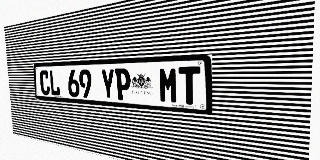6: (67, 69, 80, 97)
9: (79, 69, 92, 98)
C: (39, 70, 50, 95)
L: (49, 70, 60, 96)
M: (158, 67, 178, 104)
P: (115, 68, 131, 101)
T: (179, 66, 201, 105)
Y: (100, 69, 116, 100)
